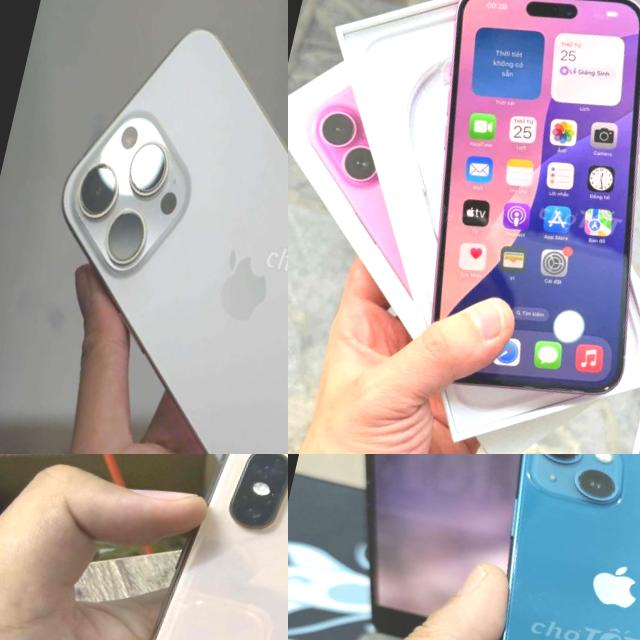gen_12_13: (453, 454, 640, 640)
gen_15: (0, 0, 288, 454)
gen_16: (368, 0, 640, 421)
gen_x_xs: (150, 454, 288, 640)
